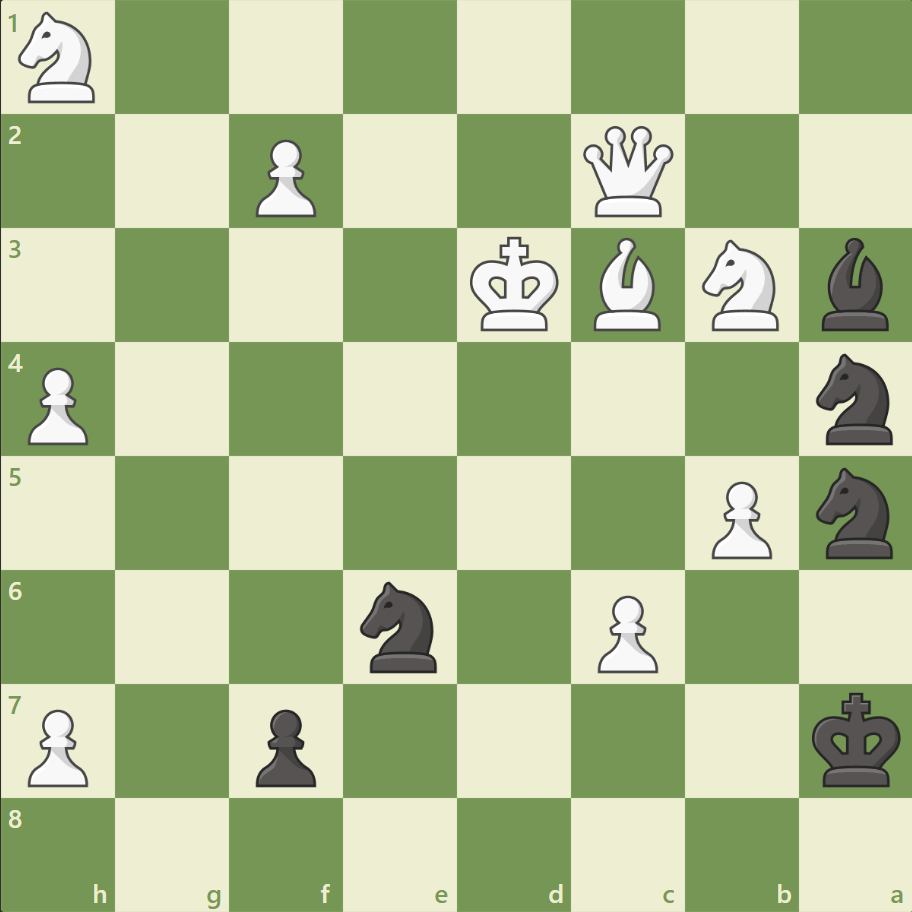B: (585, 233, 669, 336)
K: (465, 231, 565, 339)
N: (692, 234, 789, 337), (11, 7, 108, 110)
P: (20, 700, 95, 791), (701, 473, 776, 564), (20, 359, 95, 450), (247, 132, 322, 223), (588, 586, 662, 677)
Q: (578, 122, 677, 222)
b: (812, 233, 896, 336)
k: (806, 685, 906, 793)
n: (351, 575, 449, 677), (806, 461, 903, 564), (806, 348, 903, 450)
p: (247, 700, 322, 791)
